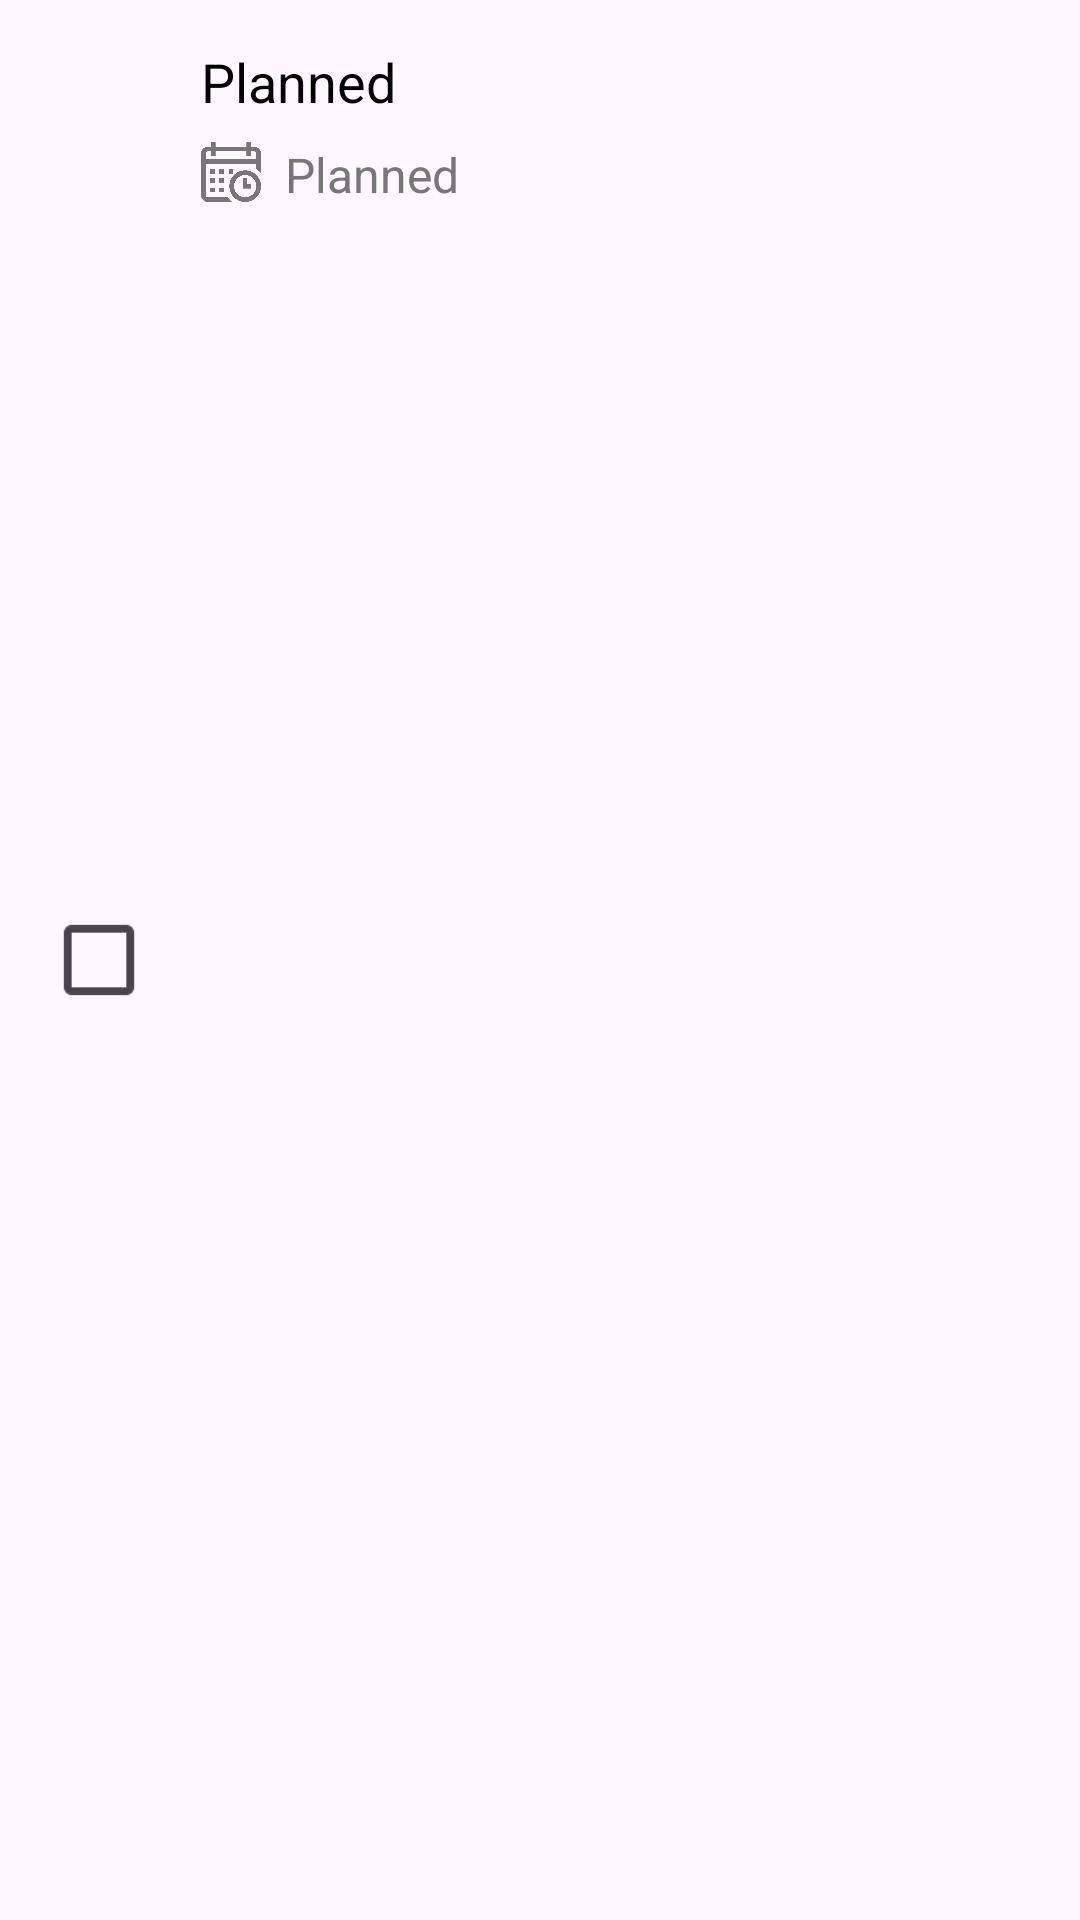

Screen size 1080*1920. Icon name, then its box in pixels as (x1, y1, x2, y2):
calendar: (201, 142, 261, 202)
